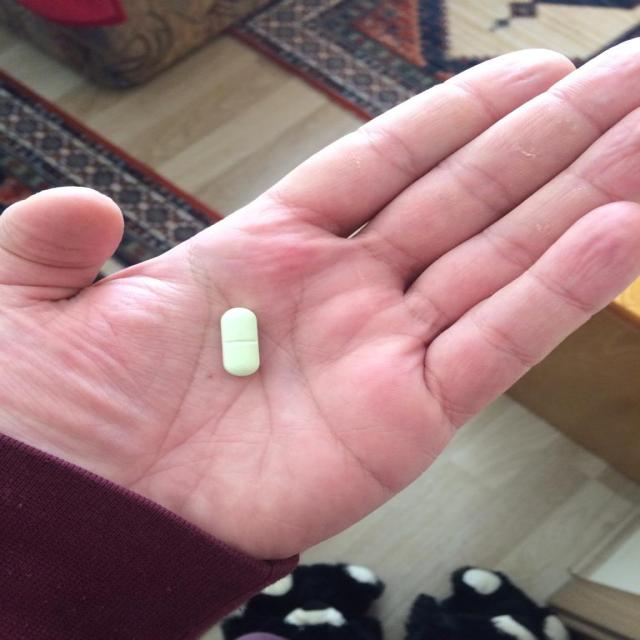pills: (207, 299, 278, 385)
